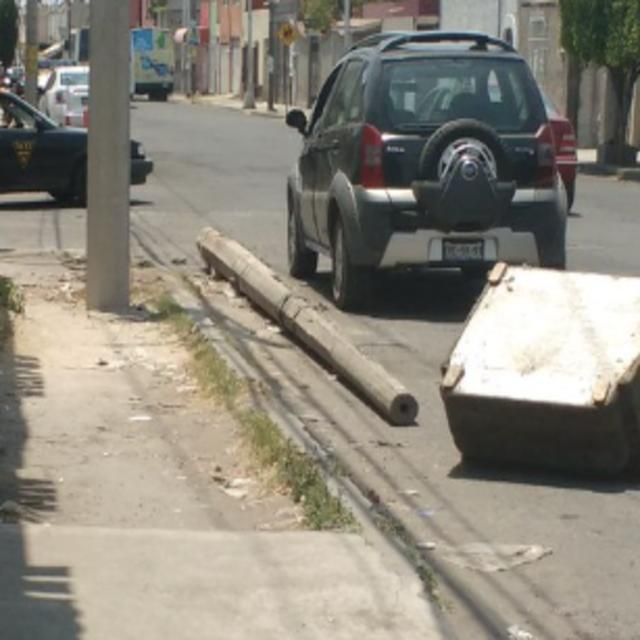Inclined Pole: (192, 221, 428, 430)
